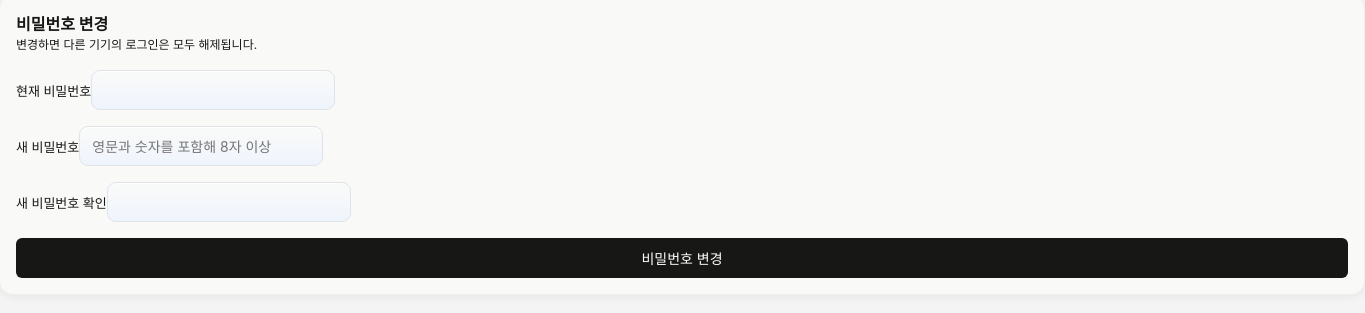
Test: PasswordCard › requires the current password
Type "newpass123" into the password field labelled "새 비밀번호" at (201, 146), box 79,126 -> 323,166
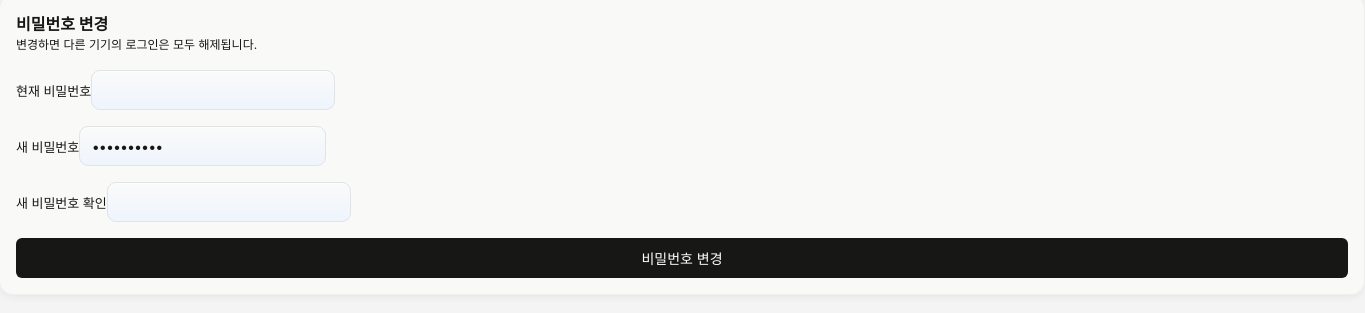
Type "newpass123" into the password field labelled "새 비밀번호 확인" at (229, 202), box 107,182 -> 351,222
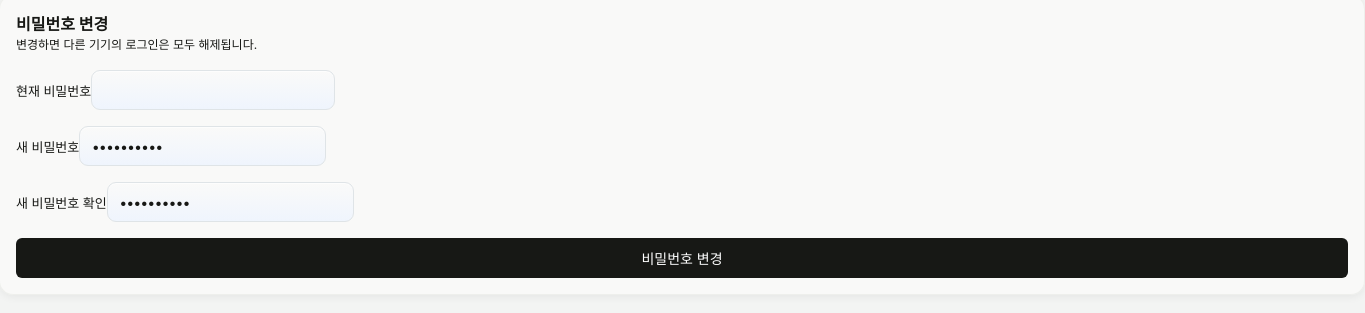
Click the button "비밀번호 변경" at (682, 258), box 16,238 -> 1348,278
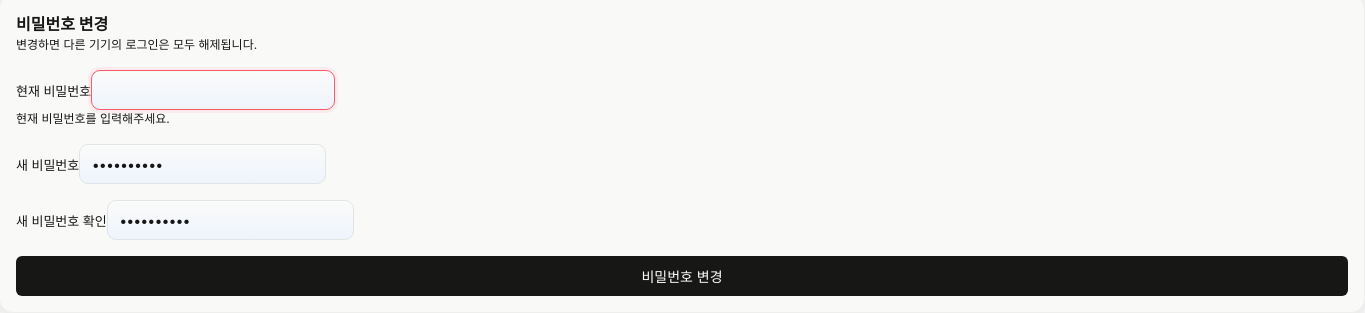
Now the text "현재 비밀번호를 입력해주세요." is shown, box 16,111 -> 170,126
